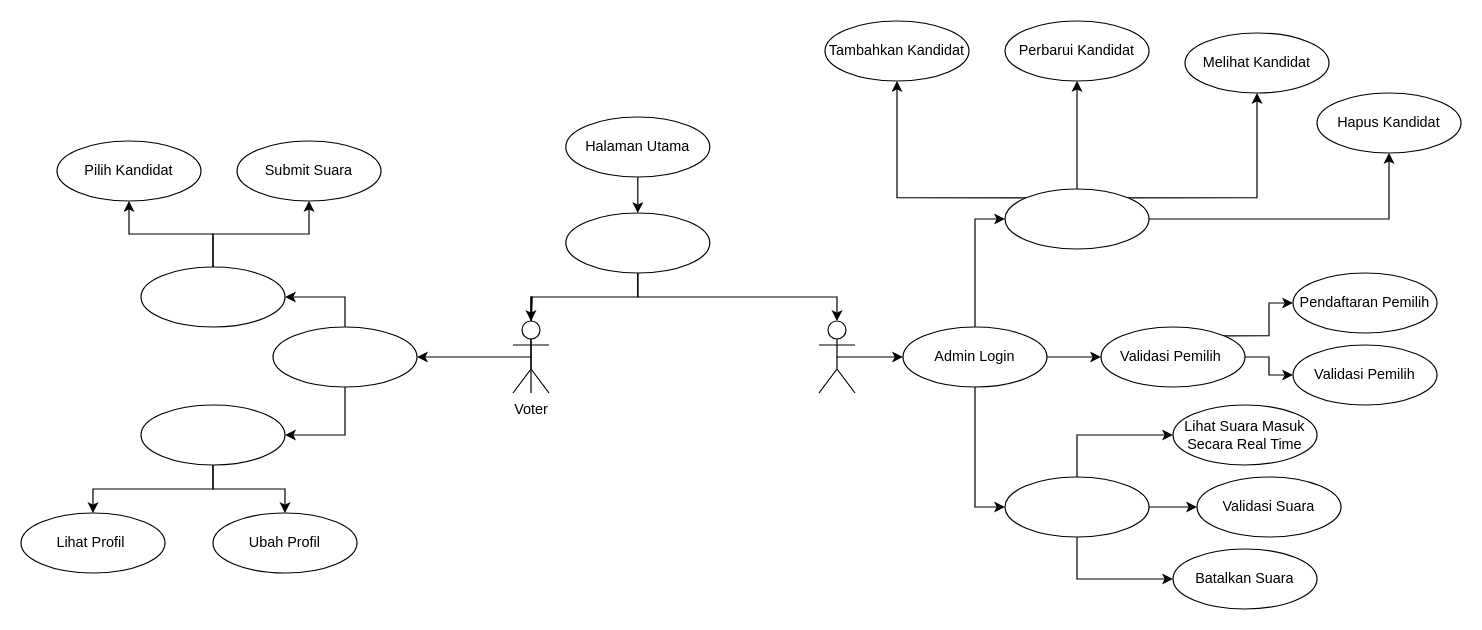
The diagram is 1482 pixels wide and 630 high, and some of its shapes have lost their labels. The box of each missing label's shape, as (x1, y1, x2, y2) in pixels:
Admin: (818, 320, 855, 393)
Berikan Suara: (140, 266, 285, 327)
Halaman Login: (565, 212, 710, 273)
Kelola Akun Pemilik: (140, 404, 285, 465)
Kelola Kandidat: (1004, 188, 1149, 249)
Kelola Suara: (1004, 476, 1149, 537)
Voter Login: (272, 326, 417, 387)
